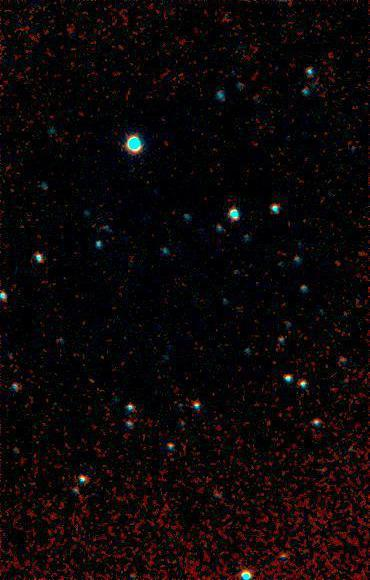star: (77, 365, 107, 395)
